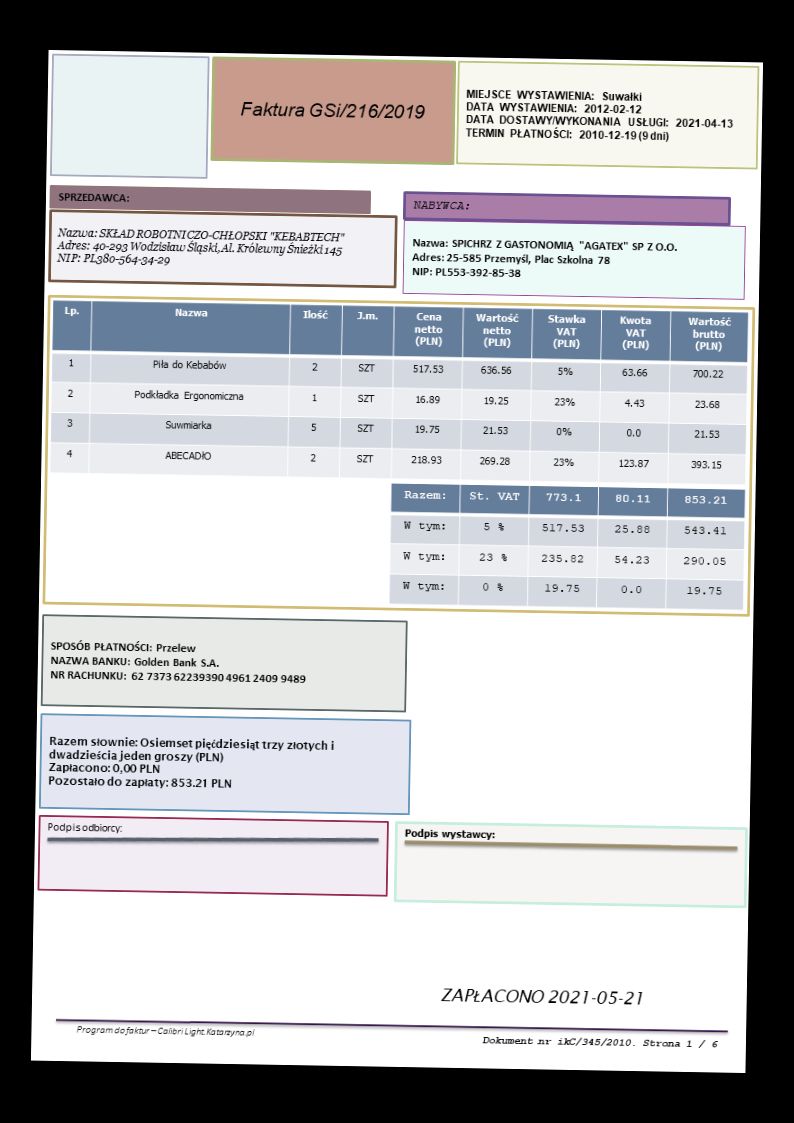Table: (48, 298, 749, 486), (388, 483, 746, 611)
TextBox: (46, 733, 337, 793), (464, 85, 735, 144), (55, 226, 349, 271), (410, 236, 680, 282), (48, 638, 307, 685), (438, 984, 644, 1010), (237, 98, 426, 121), (479, 1033, 720, 1051), (74, 1023, 257, 1040), (402, 826, 497, 843), (45, 820, 123, 836), (56, 190, 130, 204), (412, 199, 470, 212)
